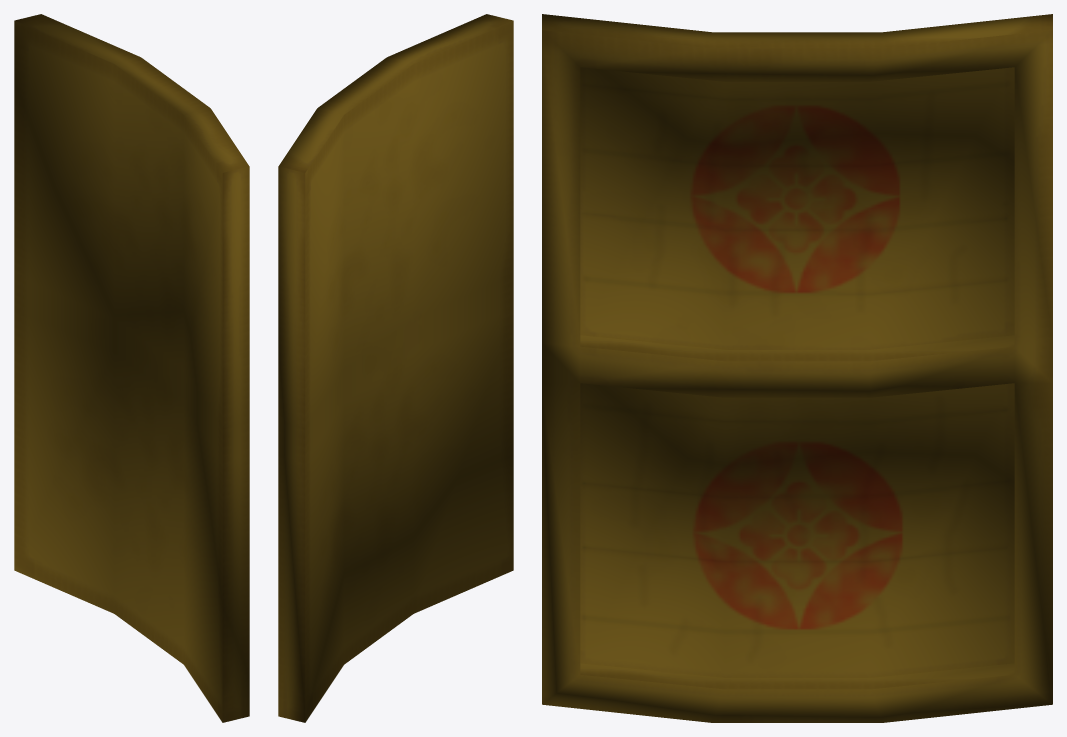
The model's file is shieldJap.fbx.
The picture shows the model from 3 angles, left to right: view 1: azimuth 30°, elevation 25°; view 2: azimuth 150°, elevation 25°; view 3: azimuth 270°, elevation 25°; orthographic projection. The views are drawn at different scales.
Visible parts, largest first — view 1: Cylinder; view 2: Cylinder; view 3: Cylinder.
Boxes of the visible parts, bbox=[...] form: Cylinder: bbox=[14, 14, 249, 722]; Cylinder: bbox=[278, 14, 513, 722]; Cylinder: bbox=[542, 14, 1052, 722].
Bounding box in the file's own units: 0.3179 × 2.91 × 2.
